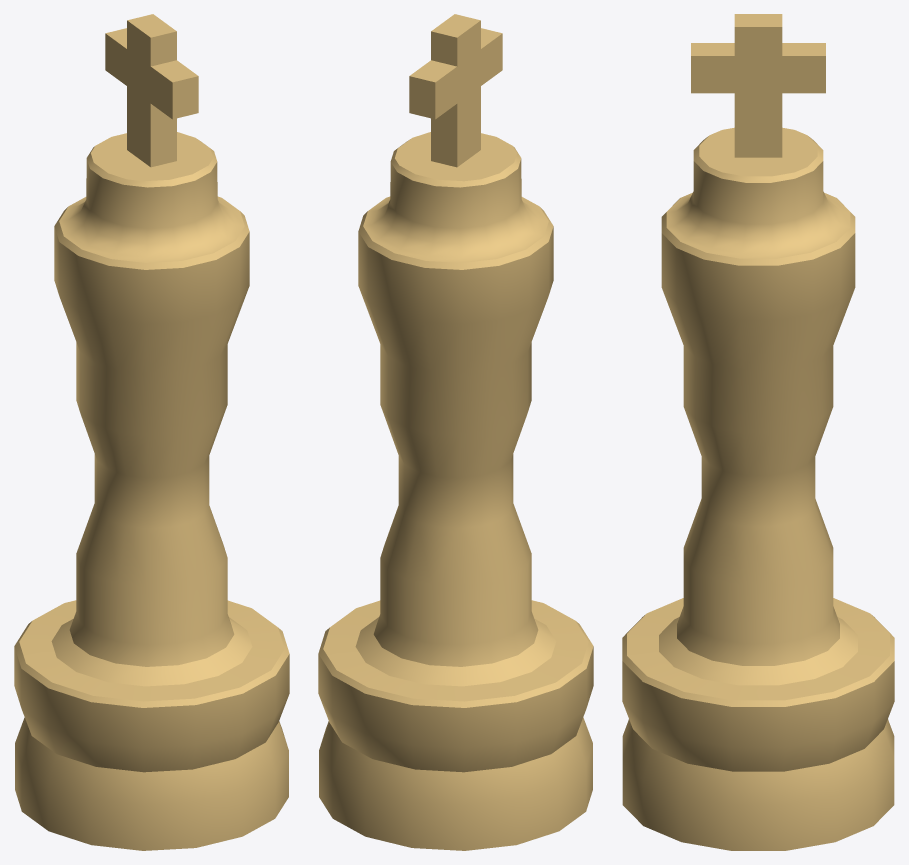
File: King.fbx
3 renders of one model, left to right at view 1: azimuth 30°, elevation 25°; view 2: azimuth 150°, elevation 25°; view 3: azimuth 270°, elevation 25°, orthographic.
Visible parts, largest first — view 1: King_Black; view 2: King_Black; view 3: King_Black.
Part boxes in pixels (x1,y1,x2,y2): King_Black: (14, 14, 289, 850); King_Black: (318, 14, 593, 850); King_Black: (622, 14, 894, 850).
Bounding box in the file's own units: 165 × 516 × 165.
